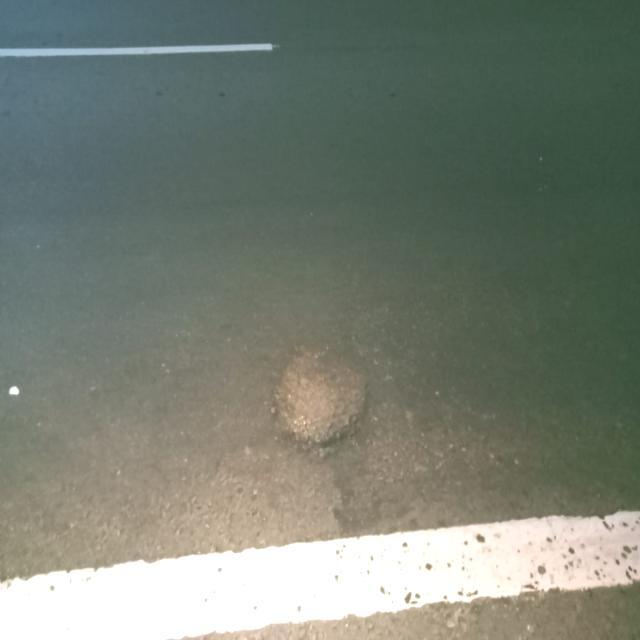Buraco: (262, 330, 378, 464)
